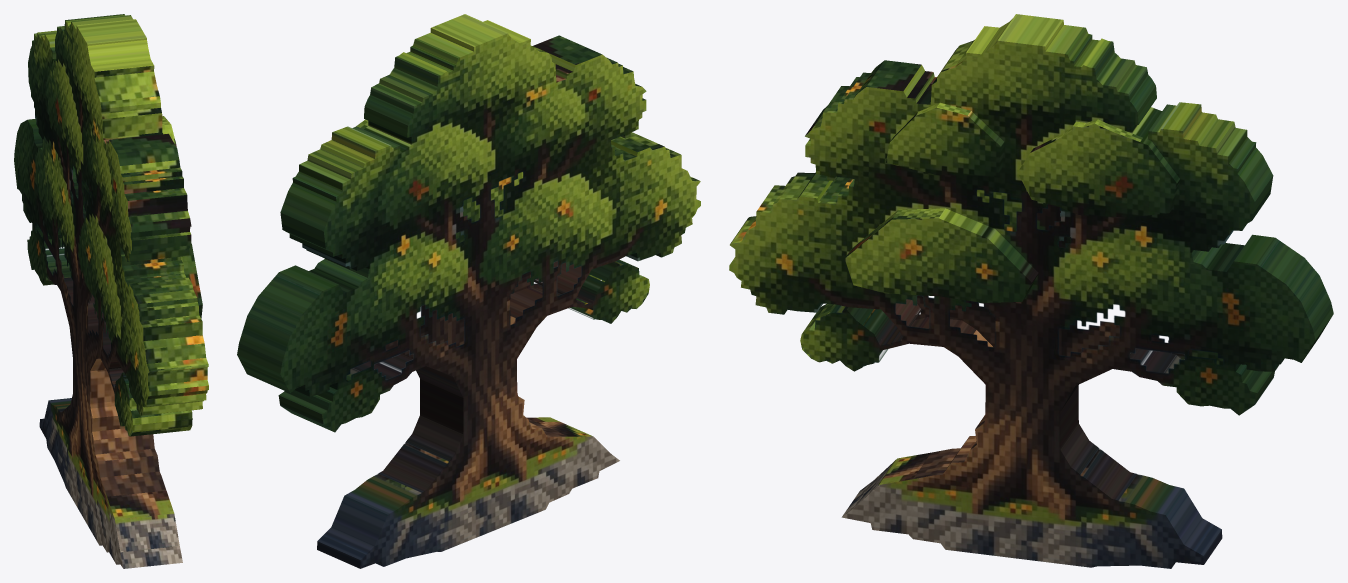
Rendered from tree_oak.glb.
3 views of the same model, side by side, from view 1: azimuth 30°, elevation 25°; view 2: azimuth 150°, elevation 25°; view 3: azimuth 270°, elevation 25° (orthographic). The views are drawn at different scales.
Parts seen in each view (by area): view 1: trees; view 2: trees; view 3: trees.
Part boxes in pixels (x1,y1,x2,y2): trees: [14, 14, 208, 568]; trees: [237, 14, 700, 568]; trees: [729, 14, 1333, 568].
Size of the model in its own units: 1.45 by 3.54 by 3.76.
Materials: 1 (1 with a texture image).
